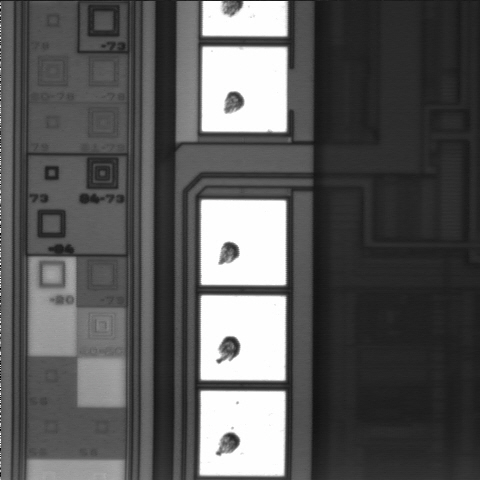pad: (202, 47, 287, 132), (201, 200, 286, 285), (201, 295, 286, 380), (200, 391, 285, 476)
